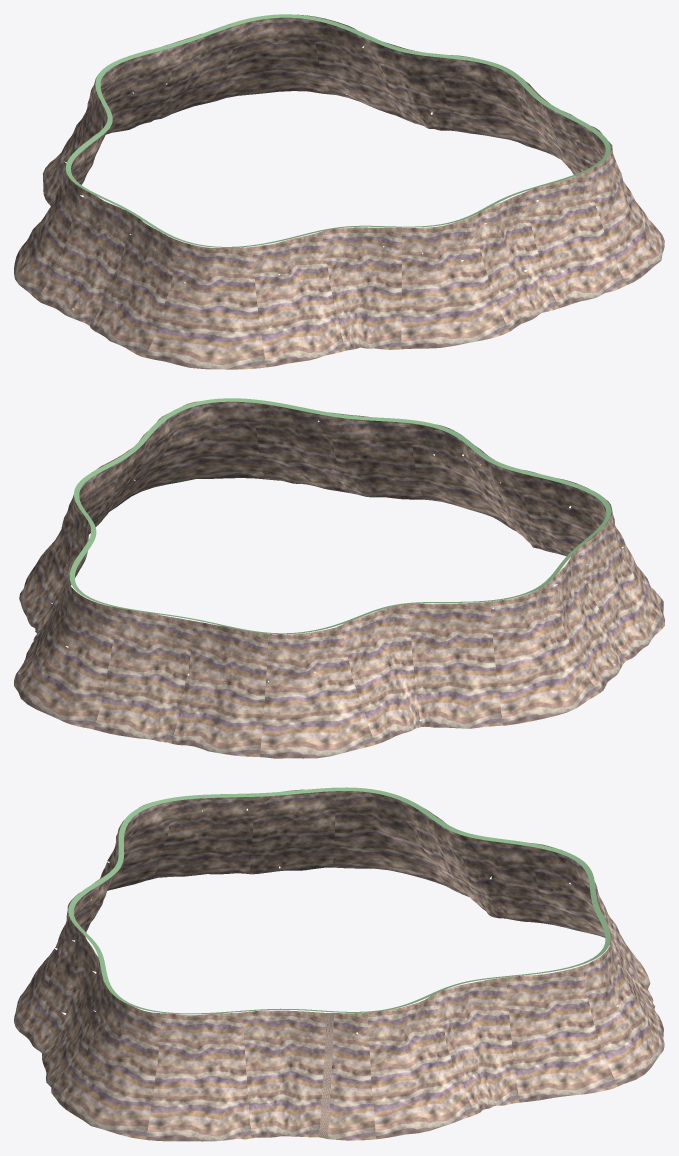
Rendered from CliffWall_plateau_east.glb.
The picture shows the model from 3 angles, top to bottom: view 1: azimuth 30°, elevation 25°; view 2: azimuth 150°, elevation 25°; view 3: azimuth 270°, elevation 25°; orthographic projection. The views are drawn at different scales.
Visible parts, largest first — view 1: CliffWall_plateau_east-rock0, CliffWall_plateau_east-lip0; view 2: CliffWall_plateau_east-rock0, CliffWall_plateau_east-lip0; view 3: CliffWall_plateau_east-rock0, CliffWall_plateau_east-lip0.
Part boxes in pixels (left/top/right/bottom): CliffWall_plateau_east-rock0: left=14, top=14, right=664, bottom=369; CliffWall_plateau_east-lip0: left=66, top=14, right=610, bottom=247; CliffWall_plateau_east-rock0: left=14, top=401, right=664, bottom=758; CliffWall_plateau_east-lip0: left=69, top=398, right=611, bottom=634; CliffWall_plateau_east-rock0: left=14, top=788, right=664, bottom=1141; CliffWall_plateau_east-lip0: left=68, top=787, right=610, bottom=1014.
Bounding box in the file's own units: 702 × 124 × 705.
Materials: 4 (1 with a texture image).
